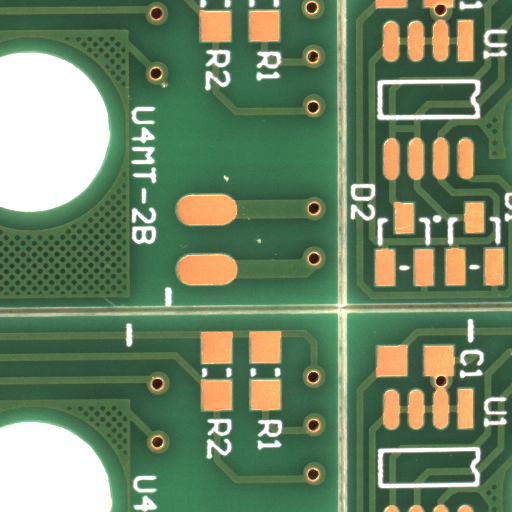Short: (403, 128, 430, 143)
